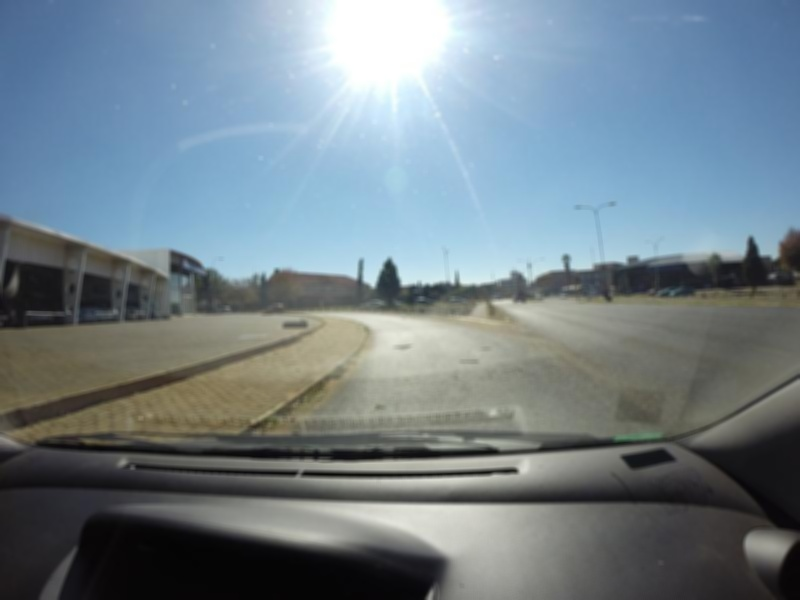pothole: (456, 354, 484, 363), (369, 401, 394, 411), (392, 342, 415, 352)
